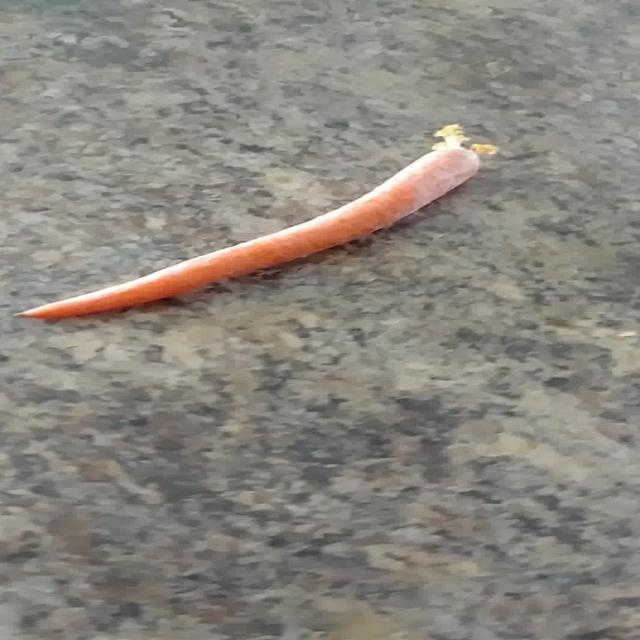carrot: (18, 125, 498, 319)
